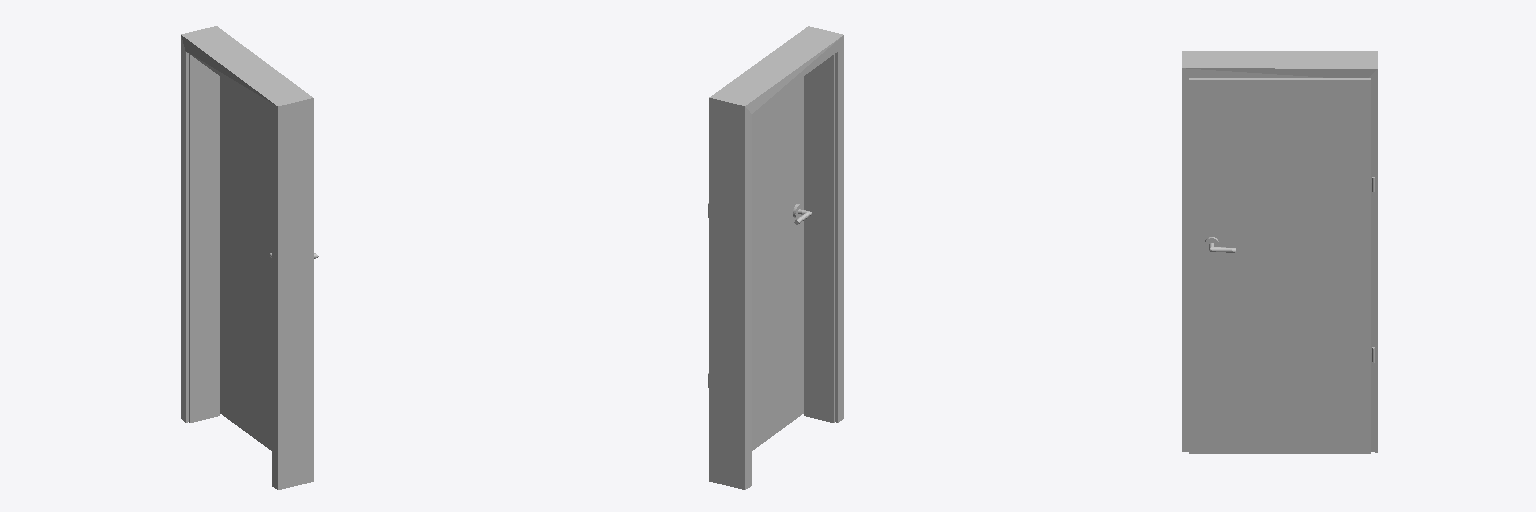
The model's file is door13.obj.
The picture shows the model from 3 angles: view 1: azimuth 30°, elevation 25°; view 2: azimuth 150°, elevation 25°; view 3: azimuth 270°, elevation 25°; orthographic projection.
Visible parts, largest first — view 1: Cylinder.005, Cylinder.001; view 2: Cylinder.005, Cylinder.001; view 3: Cylinder.001, Cylinder.005.
Part boxes in pixels (x1,y1,x2,y2): Cylinder.005: (181, 26, 313, 489); Cylinder.001: (220, 77, 271, 450); Cylinder.005: (708, 26, 843, 489); Cylinder.001: (708, 77, 803, 450); Cylinder.001: (1189, 78, 1374, 453); Cylinder.005: (1182, 51, 1377, 452).
Size of the model in its own units: 0.3039 by 2.05 by 0.95.